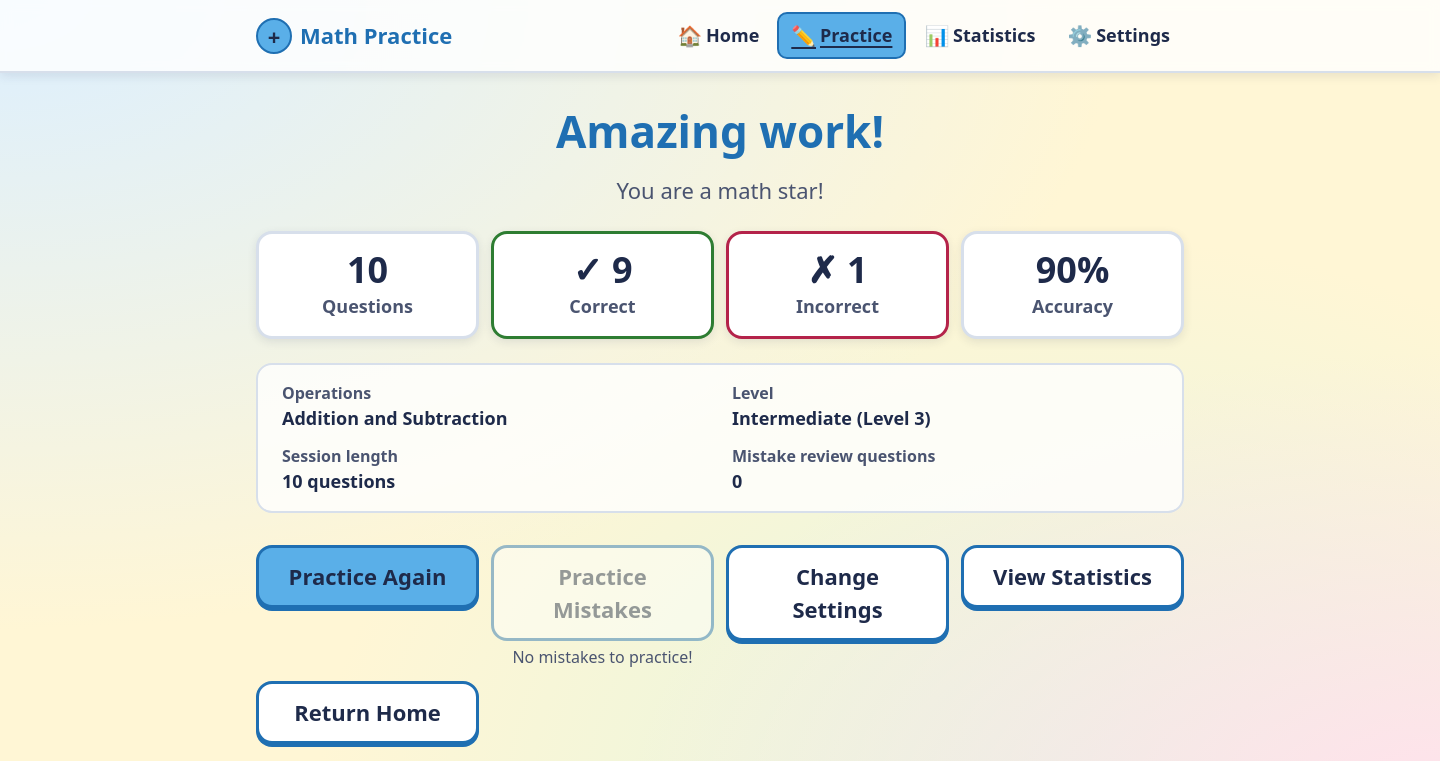
Test: SessionSummaryPage › actions › Change Settings opens setup with the previous choices
Click the button "Change Settings": {"x": 838, "y": 593} [726,545,949,641]
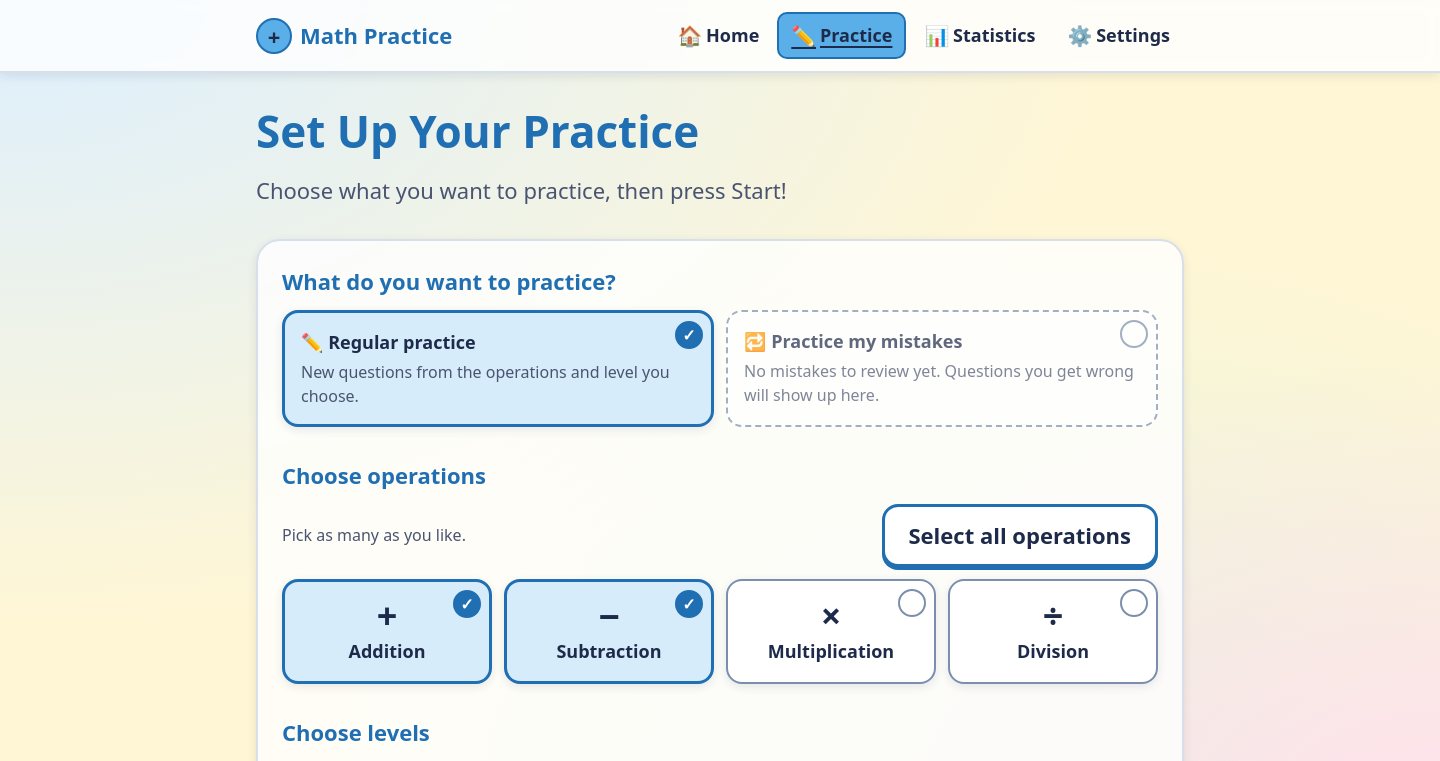
Expected: the checkbox labelled "Addition" is checked, [282,579,492,684]
Expected: the checkbox labelled "Subtraction" is checked, [504,579,714,684]
Expected: the checkbox labelled "Multiplication" is not checked, [726,579,936,684]
